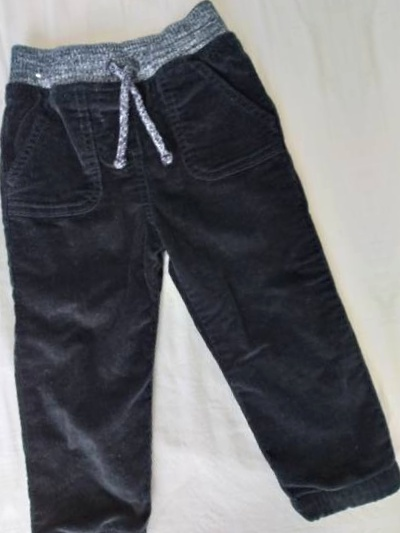Pants: (0, 0, 400, 533), (347, 0, 400, 500), (0, 33, 12, 533), (0, 0, 312, 7)
